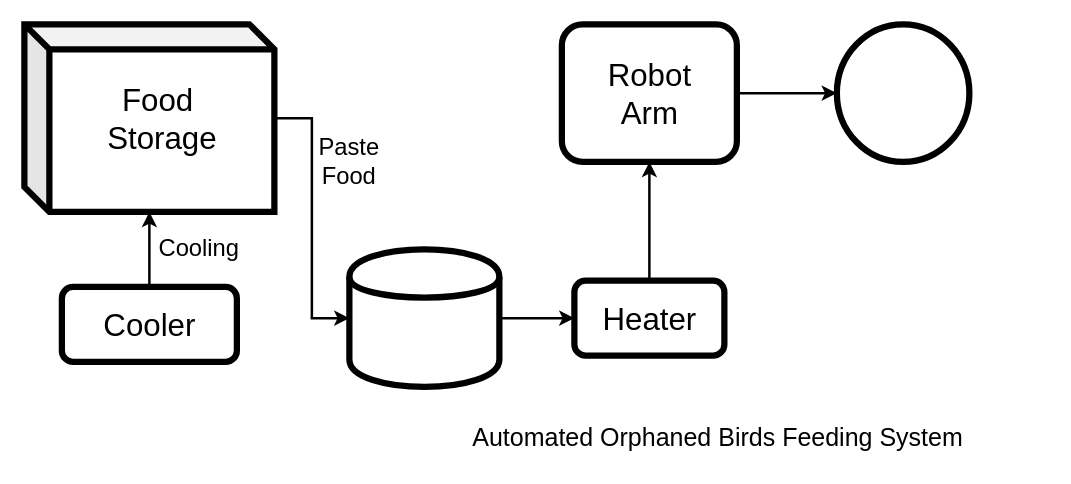
Some shapes in this 1071 by 484 pixel diagram are drawn without their labels. The shapes that lost their labels are listed below. From the top down, each one's box as (x1, y1, x2, y2) in pixels, then its label:
(833, 21, 972, 164): Baby Bird
(346, 246, 502, 389): Pump
